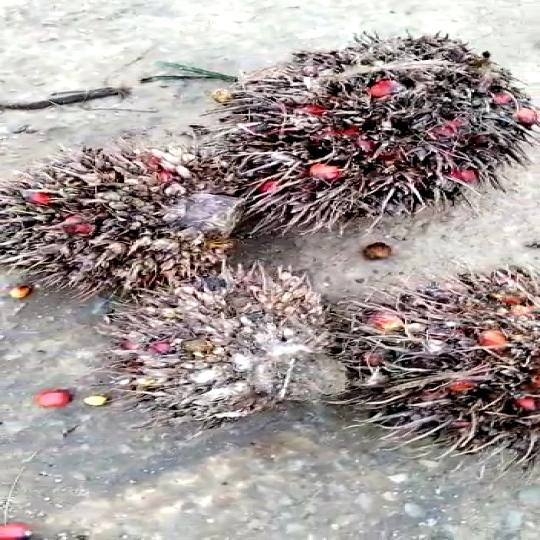terlalu masak: (195, 32, 540, 210), (0, 141, 264, 299), (90, 267, 369, 413)
